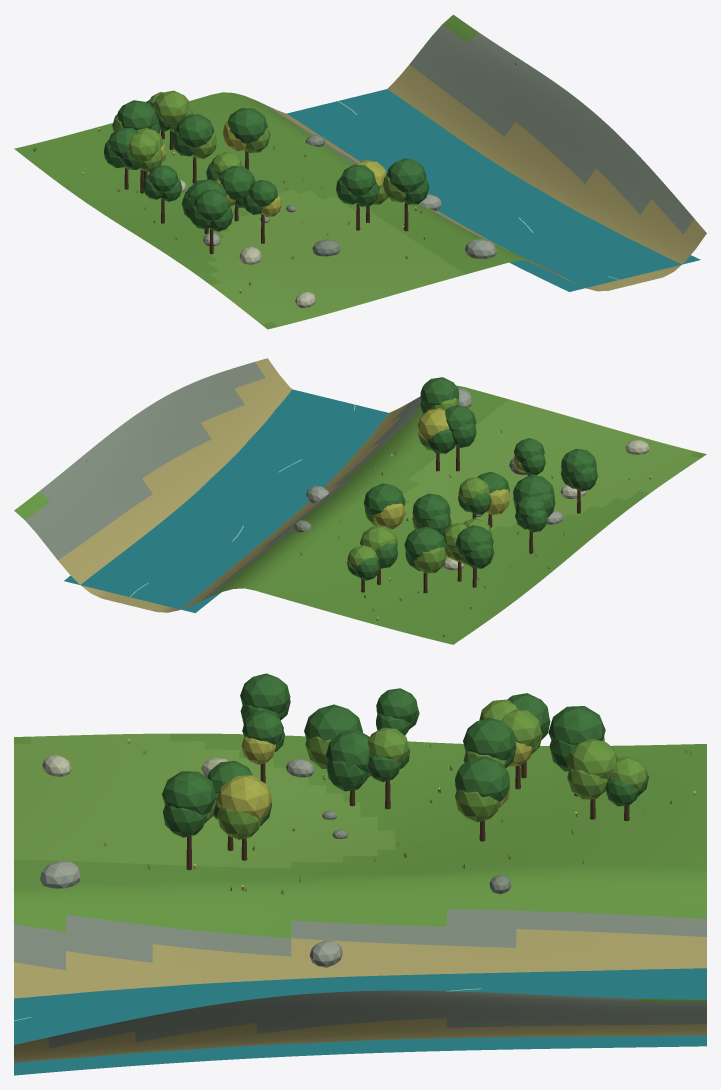
Rendered from Chunk_X0_Y0_Z2.fbx.
3 views of the same model, one above another, from view 1: azimuth 30°, elevation 25°; view 2: azimuth 150°, elevation 25°; view 3: azimuth 270°, elevation 25° (orthographic). The views are drawn at different scales.
Visible parts, largest first — view 1: Terrain.026, Water.005, Canopies.025, Rocks.026, Trunks.025; view 2: Terrain.026, Water.005, Canopies.025, Rocks.026, Trunks.025; view 3: Terrain.026, Canopies.025, Water.005, Rocks.026, Trunks.025.
Boxes of the visible parts, bbox=[...] form: Terrain.026: bbox=[14, 14, 706, 329]; Water.005: bbox=[287, 89, 700, 291]; Canopies.025: bbox=[104, 90, 429, 231]; Rocks.026: bbox=[180, 135, 496, 307]; Trunks.025: bbox=[124, 130, 408, 254]; Terrain.026: bbox=[14, 358, 706, 644]; Water.005: bbox=[64, 389, 388, 613]; Canopies.025: bbox=[347, 377, 597, 580]; Rocks.026: bbox=[294, 388, 649, 570]; Trunks.025: bbox=[361, 446, 580, 593]; Terrain.026: bbox=[14, 733, 706, 1062]; Canopies.025: bbox=[162, 673, 648, 839]; Water.005: bbox=[14, 968, 706, 1075]; Rocks.026: bbox=[40, 755, 511, 967]; Trunks.025: bbox=[186, 761, 629, 870].
Size of the model in its own units: 100 by 25.5 by 100.
